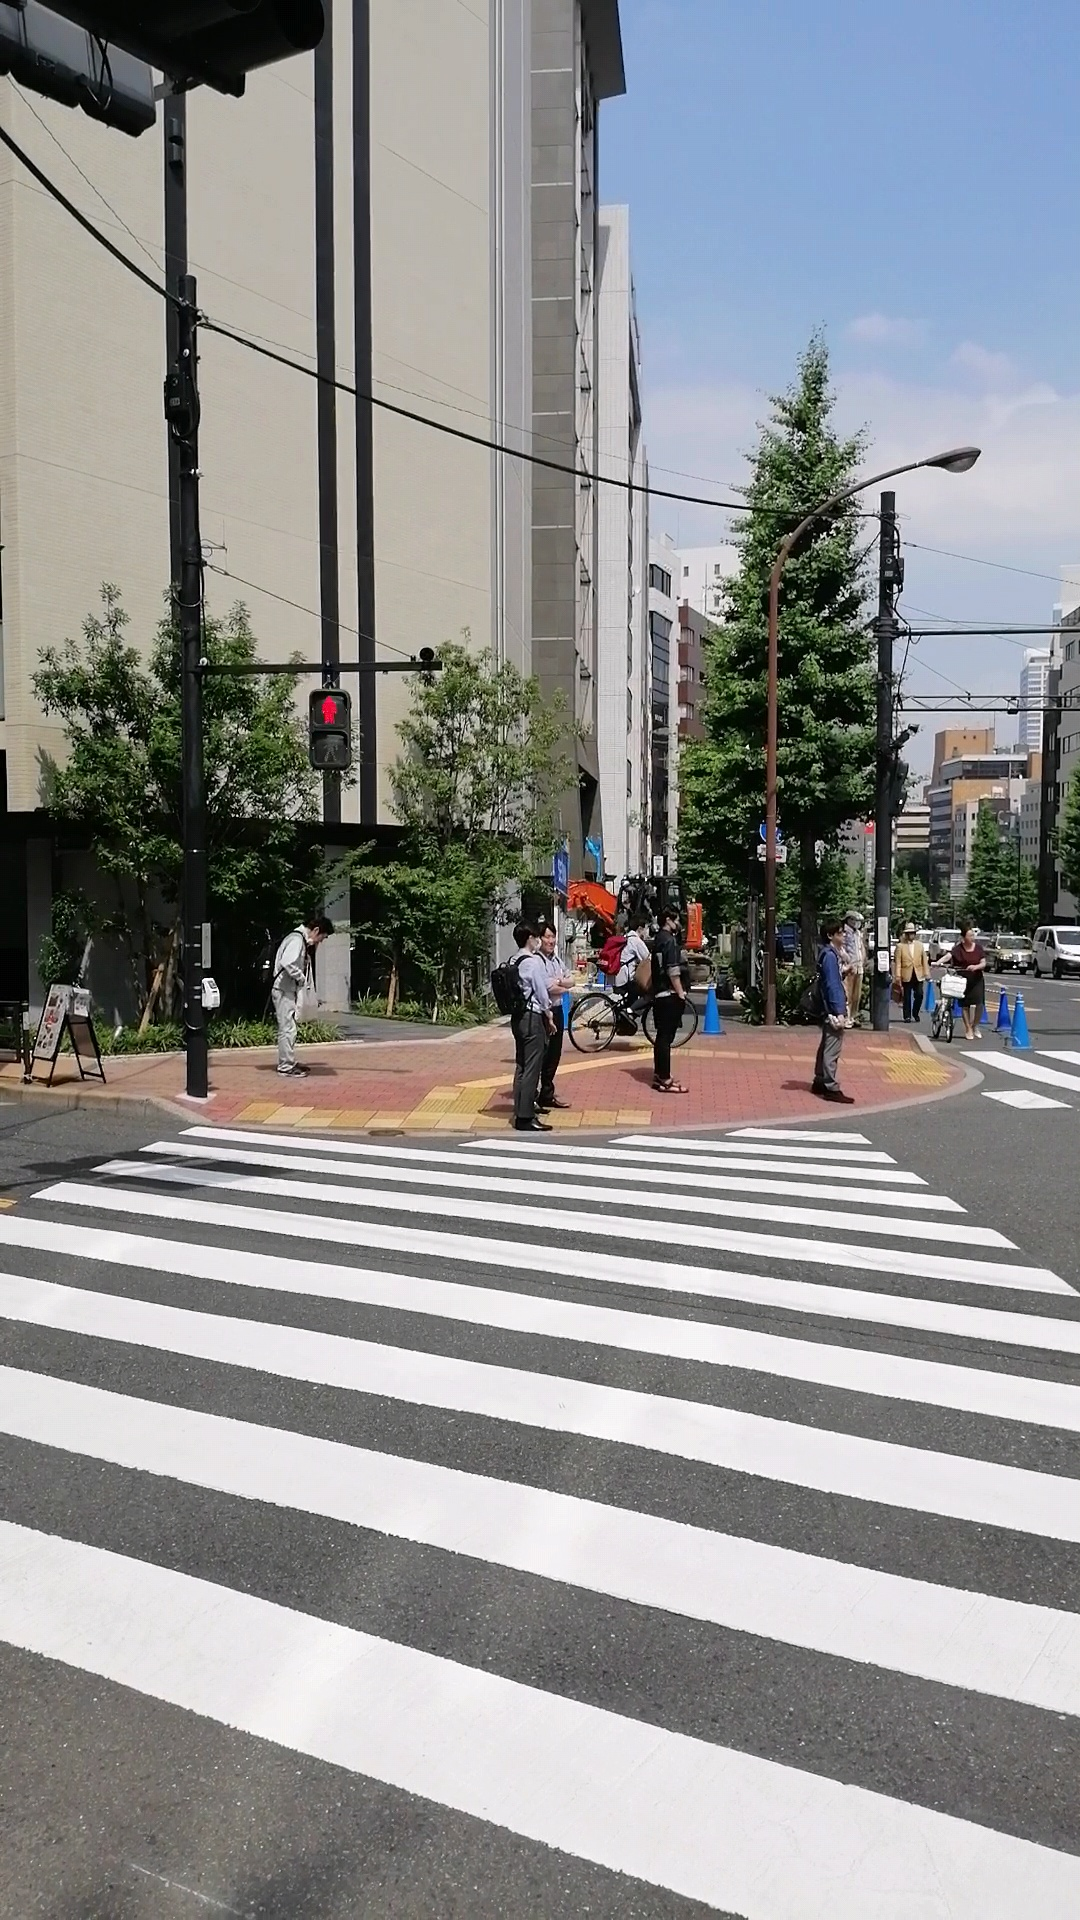red: (309, 688, 352, 770)
